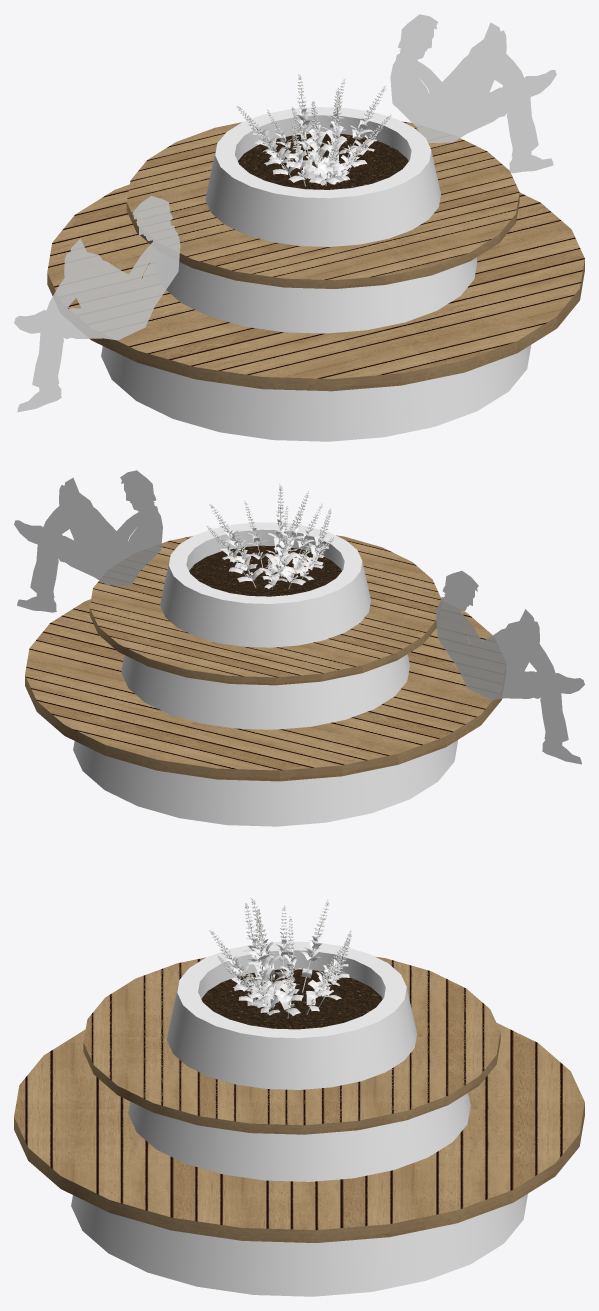
The model's file is LevelsGardem]n.dae.
The picture shows the model from 3 angles, top to bottom: view 1: azimuth 30°, elevation 25°; view 2: azimuth 150°, elevation 25°; view 3: azimuth 270°, elevation 25°; orthographic projection. The views are drawn at different scales.
Parts seen in each view (by area): view 1: group_17, group_4, group_19, group_2 (×2), group_20, group_0, group_16, group_3; view 2: group_17, group_4, group_19, group_2 (×2), group_16, group_0, group_20, group_3; view 3: group_17, group_4, group_19, group_2 (×2), group_16, group_3.
Part boxes in pixels (bbox=[...]): group_17: bbox=[47, 184, 584, 391]; group_4: bbox=[126, 121, 519, 288]; group_19: bbox=[101, 345, 531, 441]; group_2 (×2): bbox=[205, 107, 440, 246]; group_20: bbox=[14, 196, 180, 412]; group_0: bbox=[390, 14, 556, 173]; group_16: bbox=[166, 257, 477, 333]; group_3: bbox=[238, 133, 408, 189]; group_17: bbox=[25, 599, 501, 781]; group_4: bbox=[89, 535, 441, 685]; group_19: bbox=[73, 740, 457, 826]; group_2 (×2): bbox=[160, 522, 370, 647]; group_16: bbox=[121, 654, 409, 729]; group_0: bbox=[14, 470, 162, 612]; group_20: bbox=[436, 570, 584, 764]; group_3: bbox=[189, 545, 341, 596]; group_17: bbox=[14, 1022, 584, 1242]; group_4: bbox=[83, 956, 500, 1134]; group_19: bbox=[71, 1194, 527, 1296]; group_2 (×2): bbox=[167, 941, 416, 1089]; group_16: bbox=[128, 1093, 470, 1181]; group_3: bbox=[201, 969, 382, 1029].
Size of the model in its own units: 136 by 108 by 64.41.
